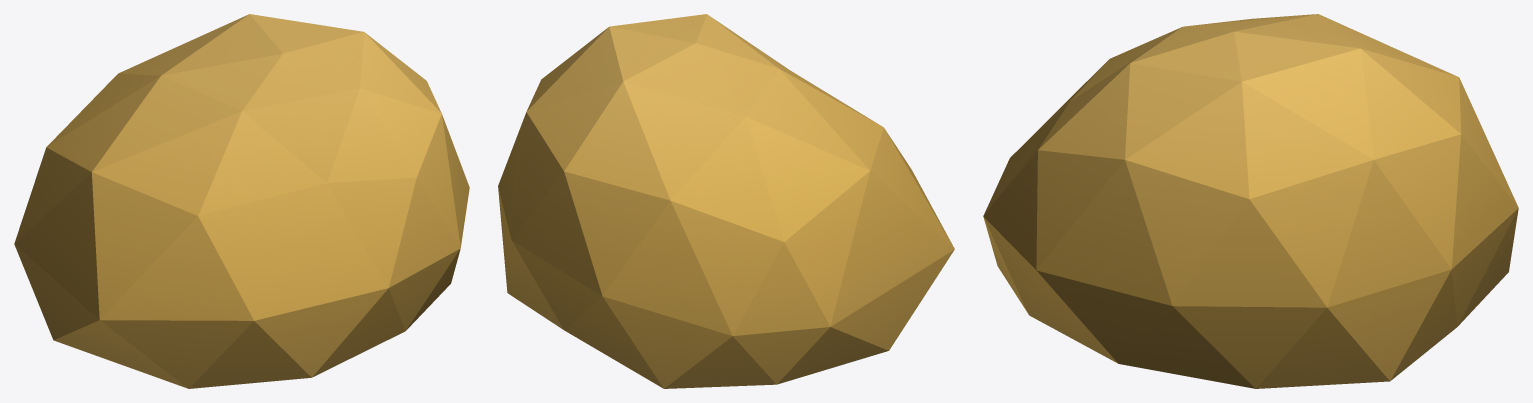
File: Forest_Stone_009.FBX
3 renders of one model, left to right at view 1: azimuth 30°, elevation 25°; view 2: azimuth 150°, elevation 25°; view 3: azimuth 270°, elevation 25°, orthographic. The views are drawn at different scales.
Visible parts, largest first — view 1: Forest_Stone_009; view 2: Forest_Stone_009; view 3: Forest_Stone_009.
Boxes of the visible parts, x1=… form: Forest_Stone_009: x1=14, y1=14, x2=469, y2=388; Forest_Stone_009: x1=498, y1=14, x2=954, y2=388; Forest_Stone_009: x1=983, y1=14, x2=1518, y2=388.
Bounding box in the file's own units: 277 × 171 × 284.
Materials: 1 (1 with a texture image).
